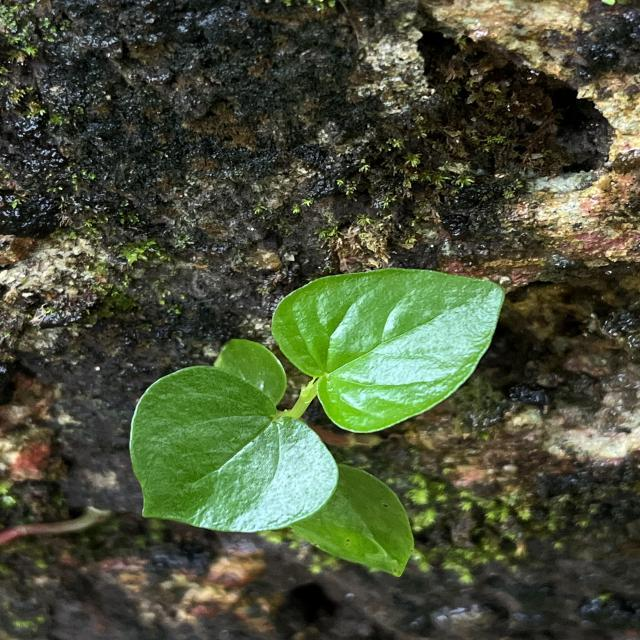Peperomia pellucida: (270, 266, 508, 435), (127, 364, 342, 535)
